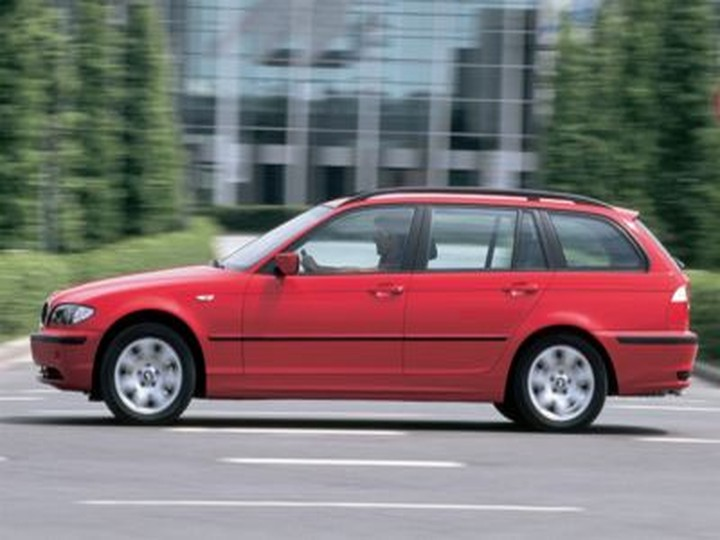car: (27, 182, 702, 437)
